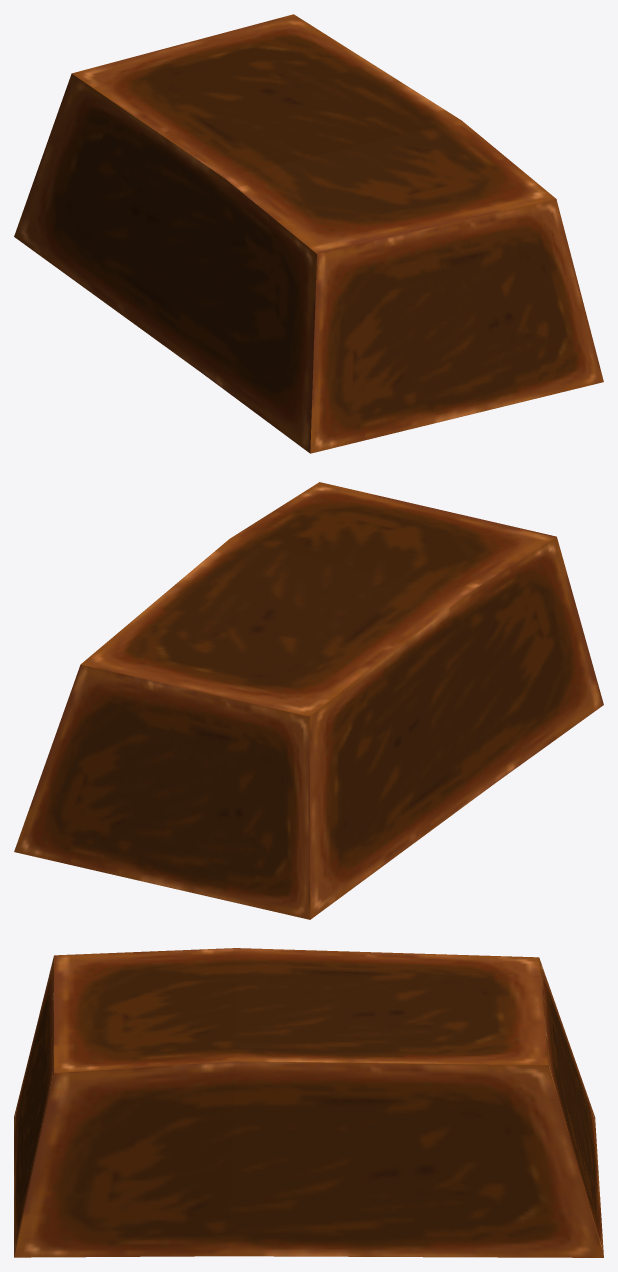
File: SM_PROP_ingot_copper_city.fbx
3 renders of one model, top to bottom at view 1: azimuth 30°, elevation 25°; view 2: azimuth 150°, elevation 25°; view 3: azimuth 270°, elevation 25°, orthographic.
Visible parts, largest first — view 1: SM_PROP_ingot_copper_city; view 2: SM_PROP_ingot_copper_city; view 3: SM_PROP_ingot_copper_city.
Part boxes in pixels (box(x1,y1,x2,y2)): SM_PROP_ingot_copper_city: box(14, 14, 603, 453); SM_PROP_ingot_copper_city: box(14, 482, 603, 919); SM_PROP_ingot_copper_city: box(14, 948, 603, 1257).
Bounding box in the file's own units: 17.95 × 10.83 × 31.78.
